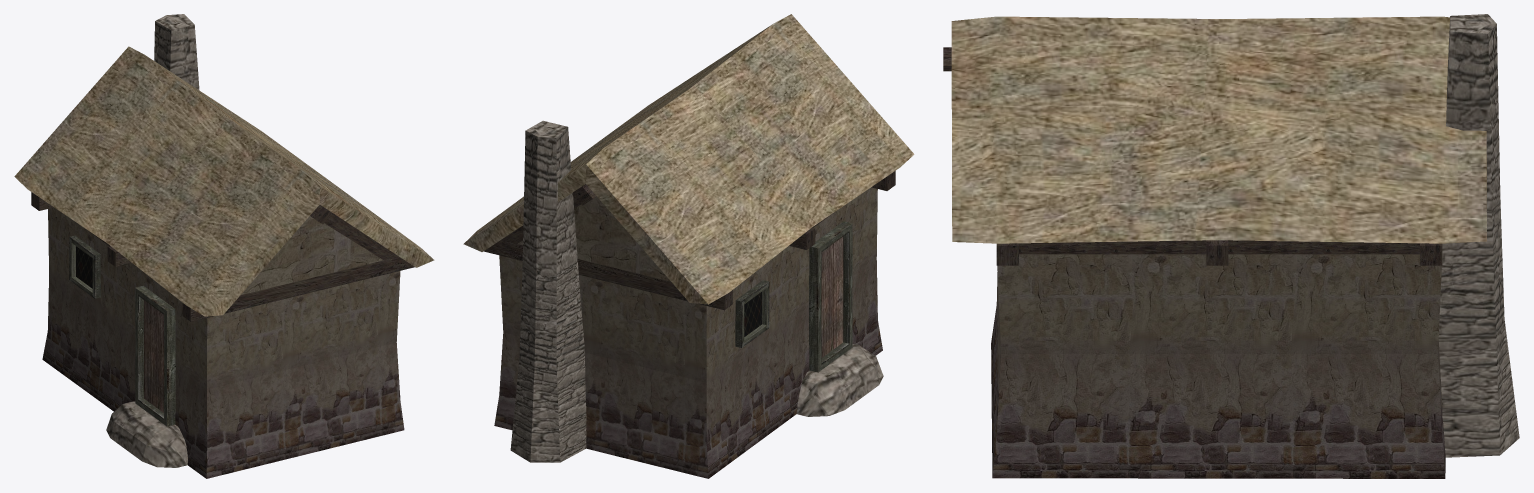
File: house.obj
3 renders of one model, left to right at view 1: azimuth 30°, elevation 25°; view 2: azimuth 150°, elevation 25°; view 3: azimuth 270°, elevation 25°, orthographic. The views are drawn at different scales.
Parts seen in each view (by area): view 1: Object_house2_skin.jpg; view 2: Object_house2_skin.jpg; view 3: Object_house2_skin.jpg.
Part boxes in pixels (x1,y1,x2,y2): Object_house2_skin.jpg: (14, 14, 434, 478); Object_house2_skin.jpg: (463, 14, 914, 478); Object_house2_skin.jpg: (943, 14, 1519, 478).
Size of the model in its own units: 1.73 by 1.99 by 2.5.
